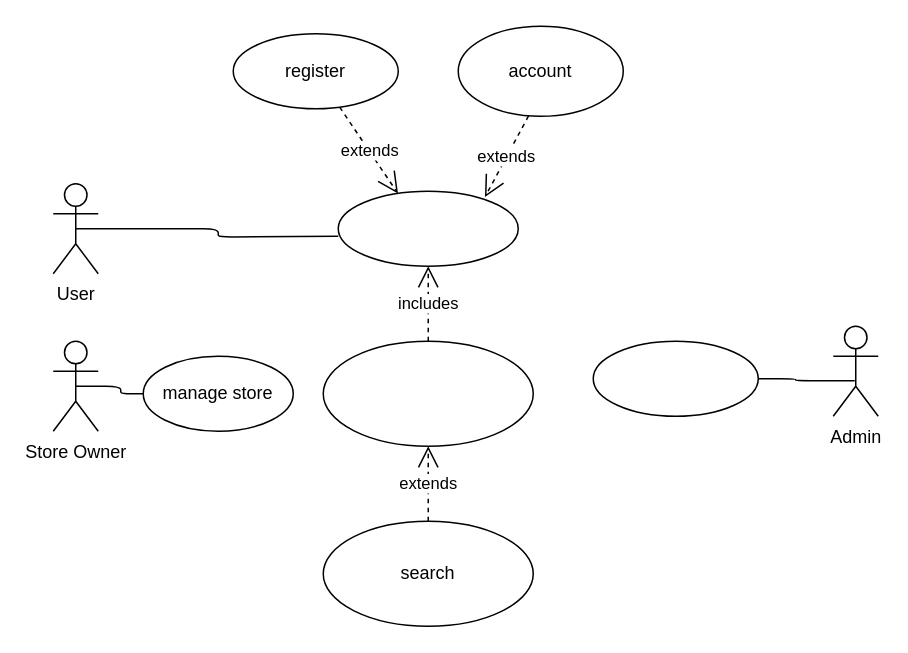
Some shapes in this 908 by 653 pixel diagram are drawn without their labels. The centre of each missing label's shape, as x and y in pixels:
"login" goes at [427,228].
"manage all users/stores" goes at [675,378].
"purchase" goes at [427,393].
